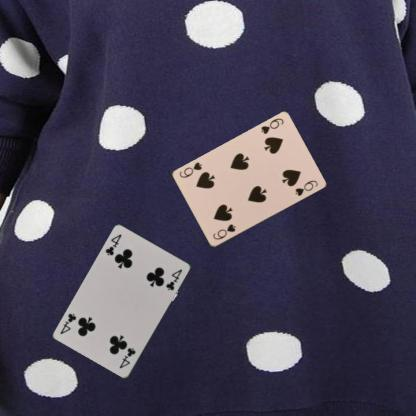4c: (117, 345, 137, 370), (103, 232, 123, 257)
6s: (258, 115, 285, 136), (210, 221, 237, 241)
